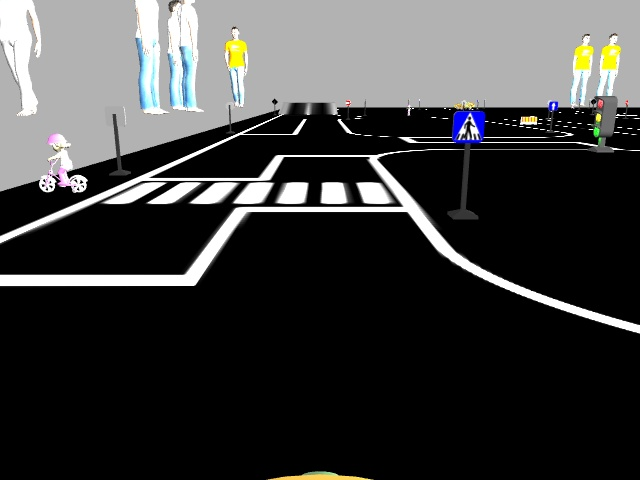Crosswalk: (453, 111, 484, 144)
Pedestrian: (38, 130, 90, 193)
TrafficLight: (591, 94, 619, 138)
